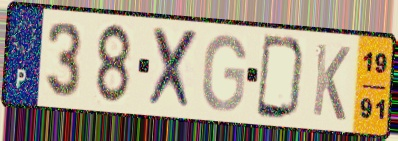3: (42, 20, 86, 100)
8: (93, 20, 136, 108)
D: (254, 32, 308, 123)
G: (199, 32, 248, 114)
K: (310, 40, 353, 124)
X: (147, 25, 202, 114)
